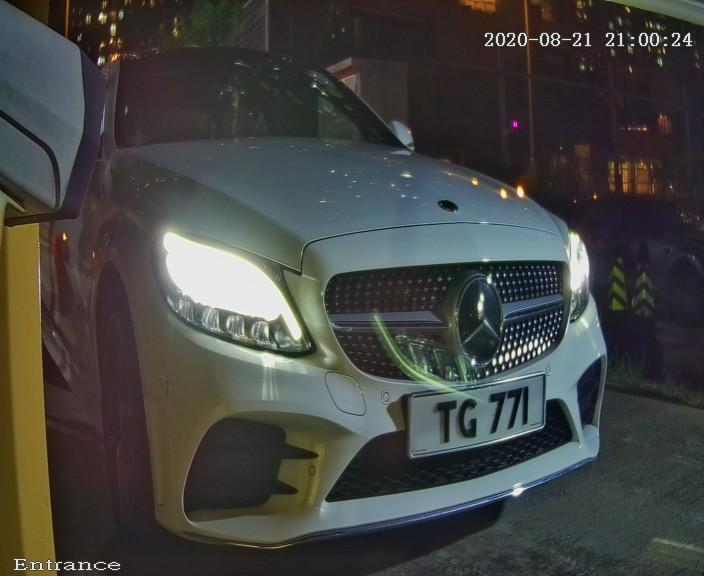Car: (29, 1, 676, 576)
License Plate: (377, 363, 563, 482)
